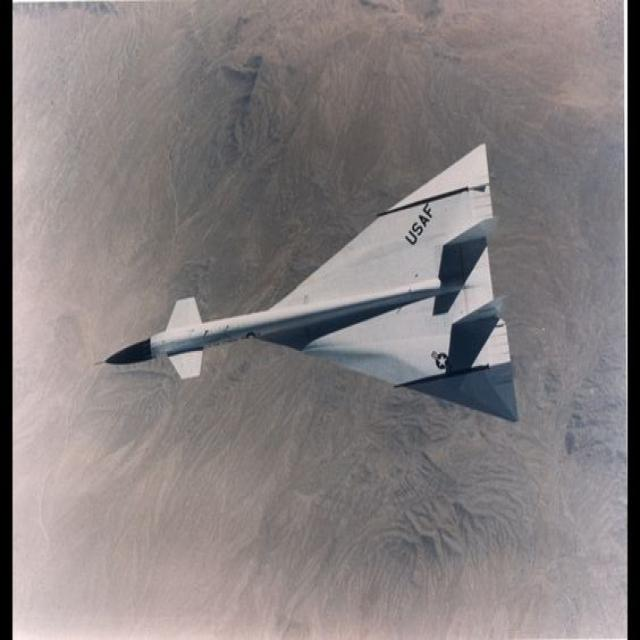MIL_Plane: (94, 140, 520, 424)
